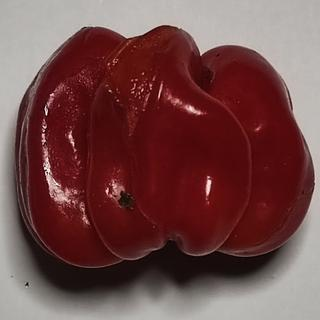Fly-bites: (109, 183, 140, 218)
